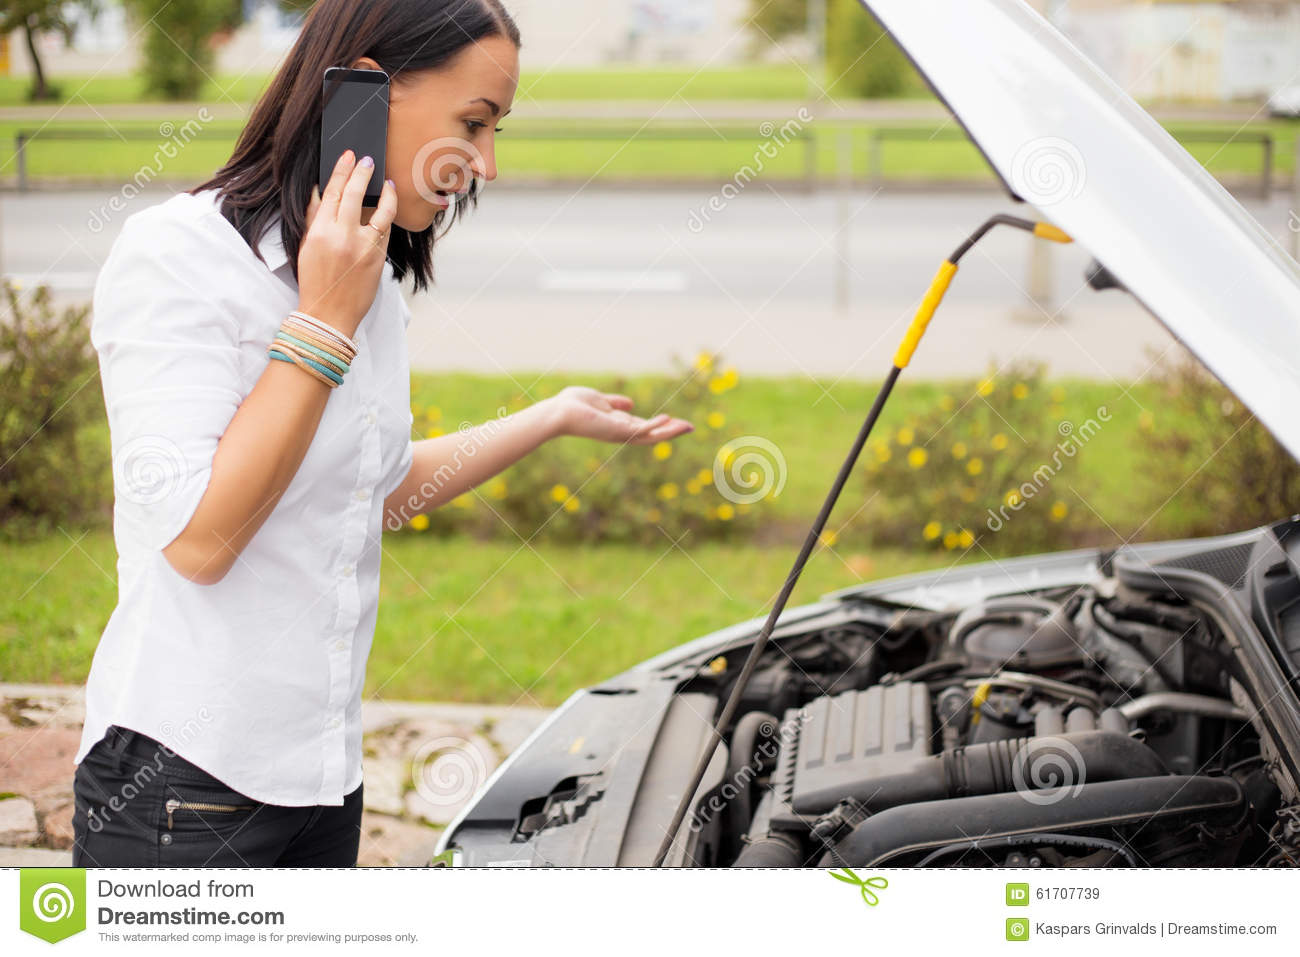phone: (316, 69, 393, 210)
talk: (292, 54, 513, 342)
